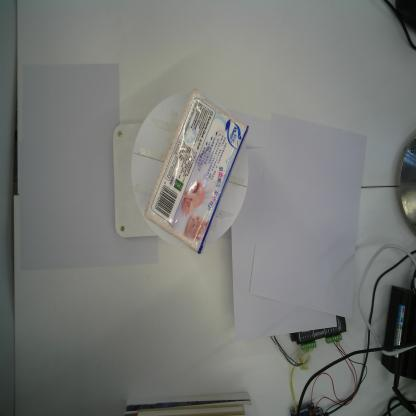Tissue: (143, 87, 249, 256)
